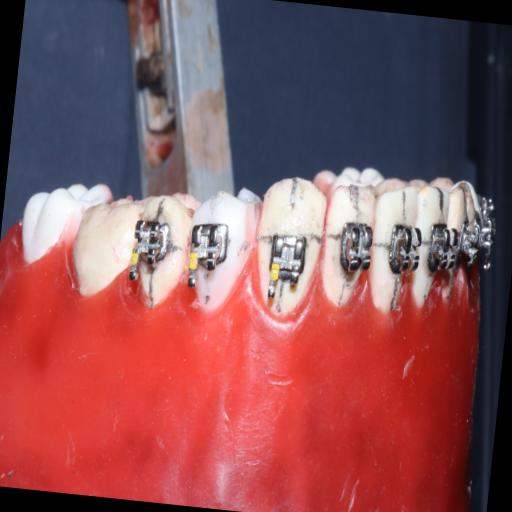incorrect_brace: (262, 224, 312, 302)
